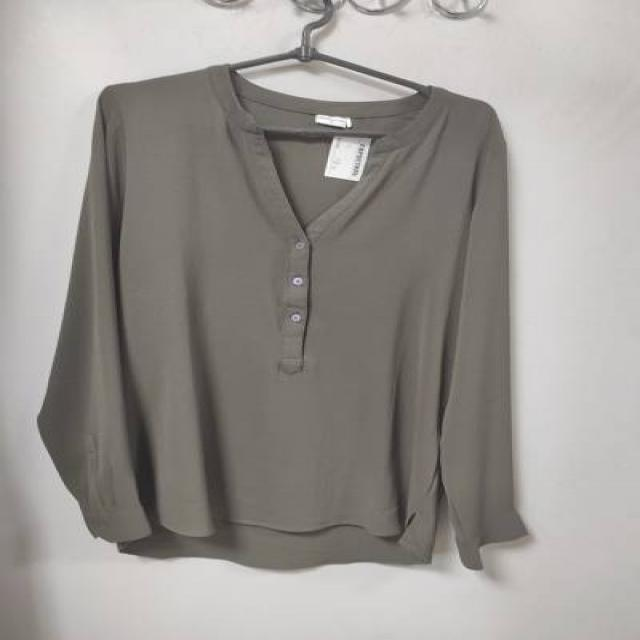Clothes -Biodegradable-: (33, 65, 529, 577)
